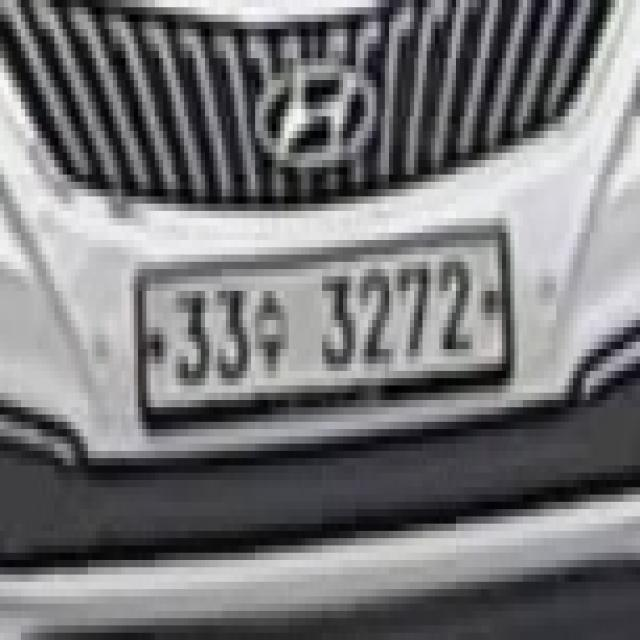2: (439, 255, 477, 356), (360, 262, 393, 364)
3: (314, 269, 356, 371), (213, 276, 251, 386), (172, 284, 209, 392)
7: (393, 262, 435, 356)
license_plate: (142, 225, 510, 422)
su: (247, 276, 293, 378)
